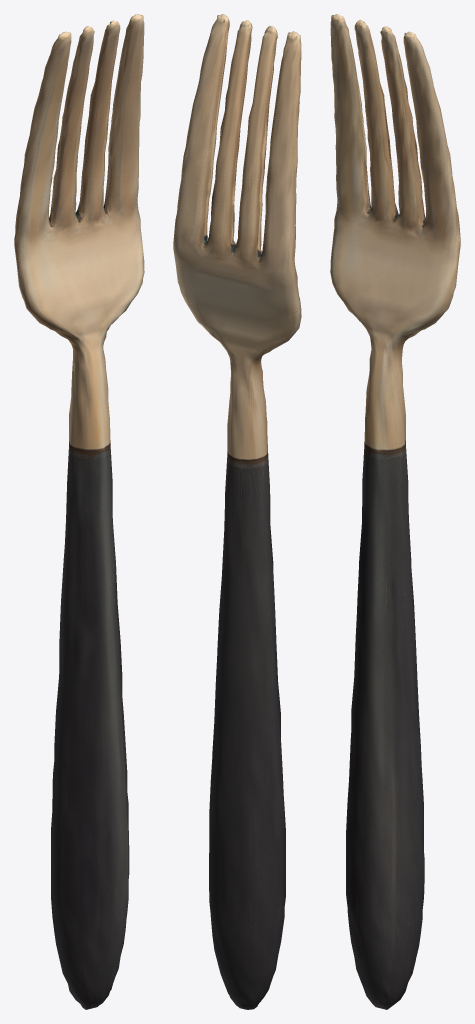
Rendered from Velo_Gold_Black_App_fork_0225003442_texture.glb.
3 views of the same model, side by side, from view 1: azimuth 30°, elevation 25°; view 2: azimuth 150°, elevation 25°; view 3: azimuth 330°, elevation 25° (orthographic).
Parts seen in each view (by area): view 1: Mesh_0; view 2: Mesh_0; view 3: Mesh_0.
Boxes of the visible parts, box(x1,y1,x2,y2) form: Mesh_0: box(14, 14, 144, 1009); Mesh_0: box(173, 14, 301, 1009); Mesh_0: box(330, 14, 460, 1009).
Bounding box in the file's own units: 0.0197 × 0.1524 × 0.011.
1 material, 1 textured.
